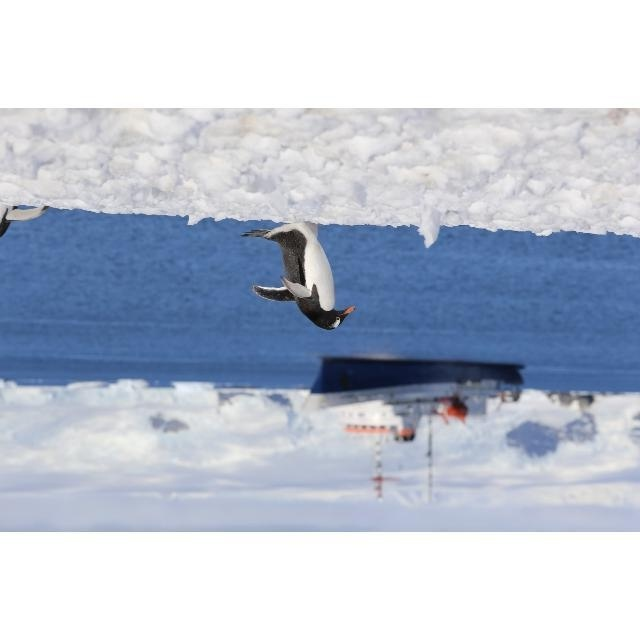penguin: (242, 217, 355, 331)
